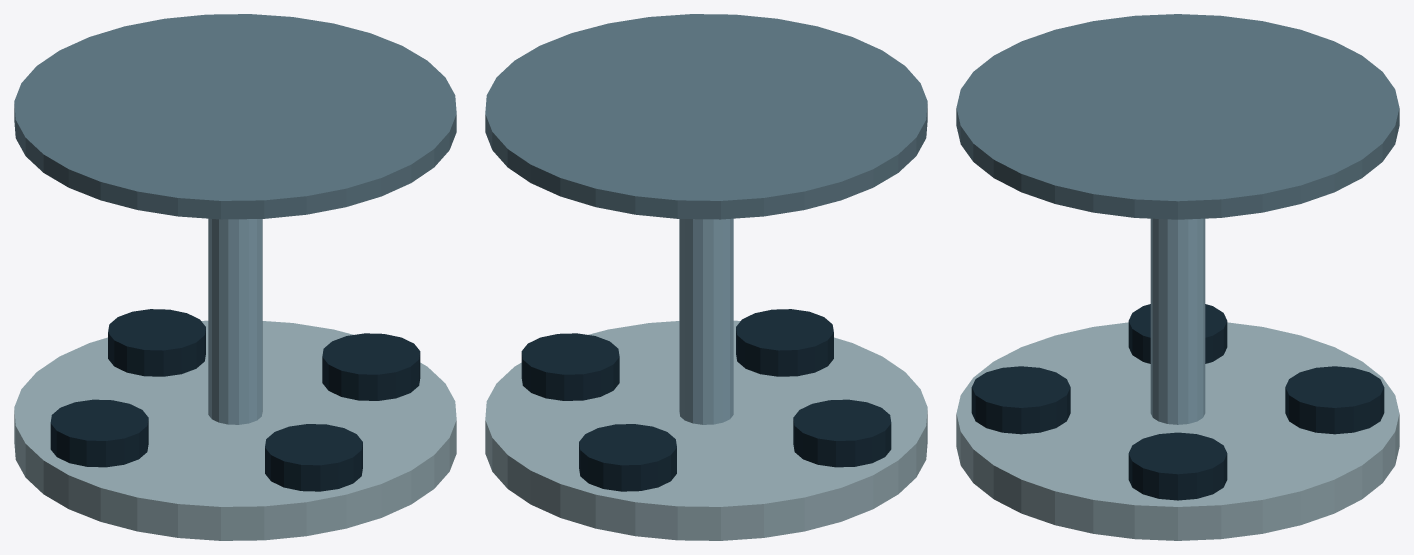
File: SM_ColdRack.fbx
3 renders of one model, left to right at view 1: azimuth 30°, elevation 25°; view 2: azimuth 150°, elevation 25°; view 3: azimuth 270°, elevation 25°, orthographic.
Parts seen in each view (by area): view 1: SM_ColdRack; view 2: SM_ColdRack; view 3: SM_ColdRack.
Boxes of the visible parts, bbox=[...] form: SM_ColdRack: bbox=[14, 14, 456, 540]; SM_ColdRack: bbox=[485, 14, 927, 540]; SM_ColdRack: bbox=[956, 14, 1399, 540].
Bounding box in the file's own units: 130 × 130 × 110.
